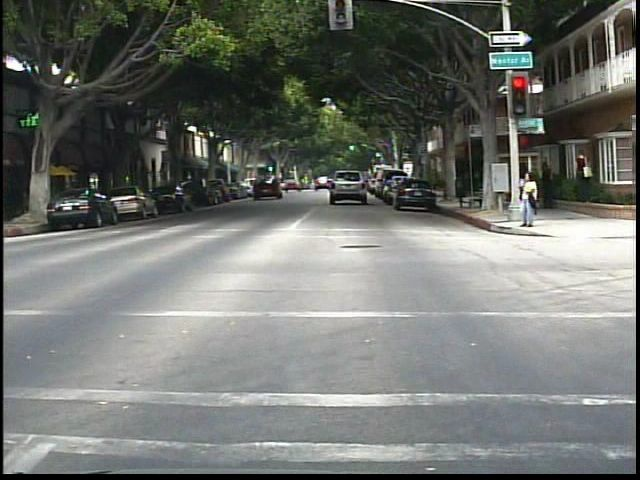person: (515, 168, 542, 229), (571, 148, 597, 206), (540, 159, 562, 217)
